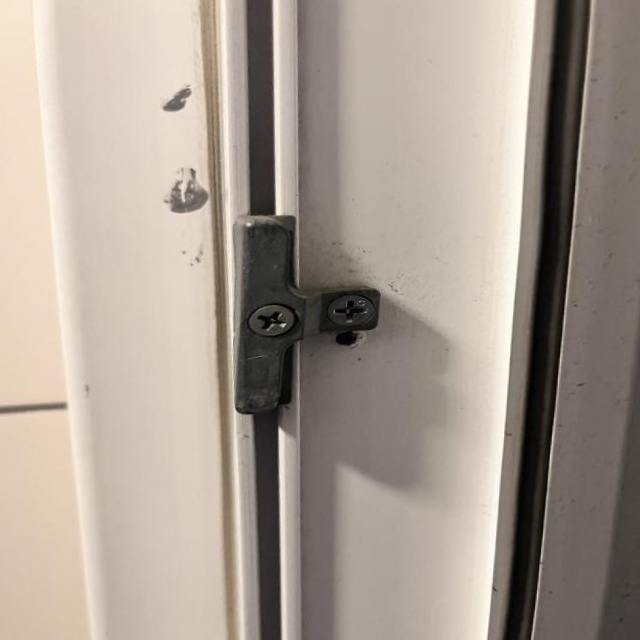phillips: (325, 294, 377, 327), (247, 304, 297, 337)
